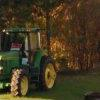Tractor: (5, 18, 68, 100)
